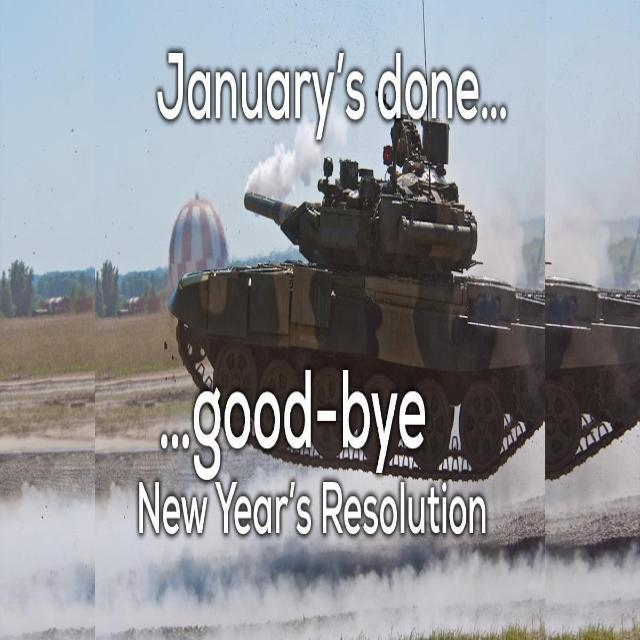Tanks: (174, 133, 619, 380)
